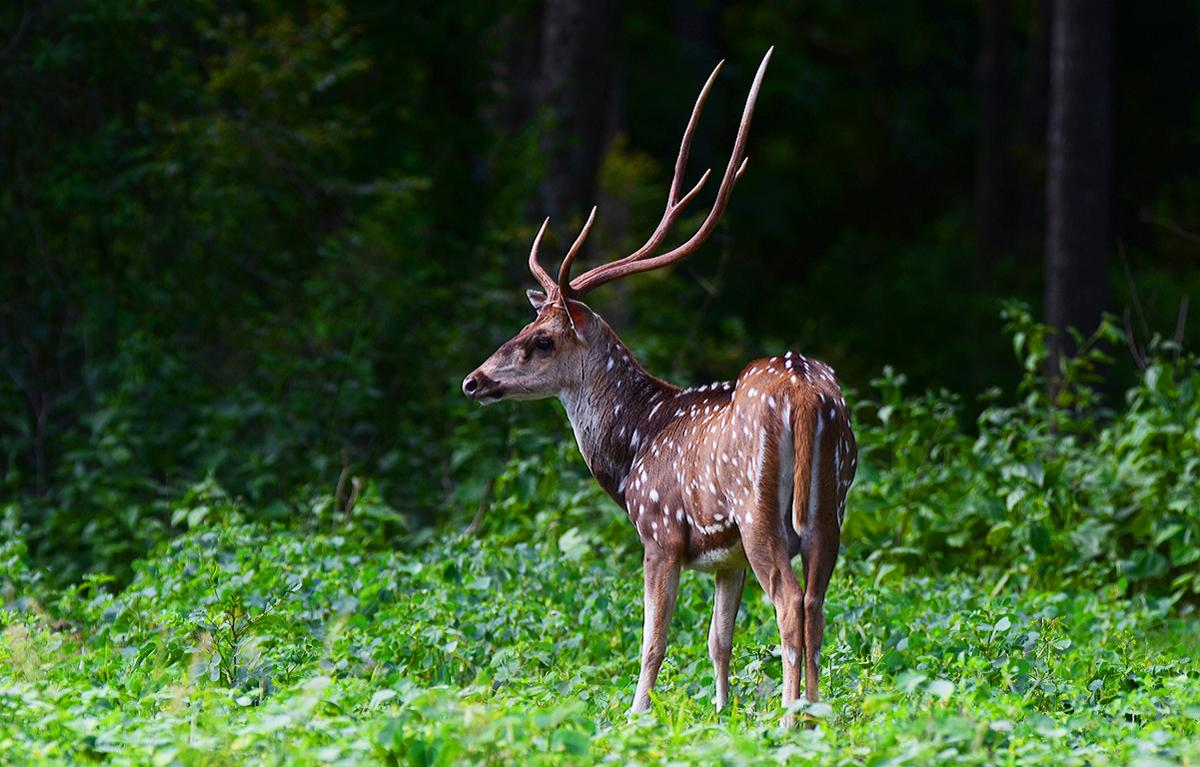Deer: (462, 48, 856, 712)
